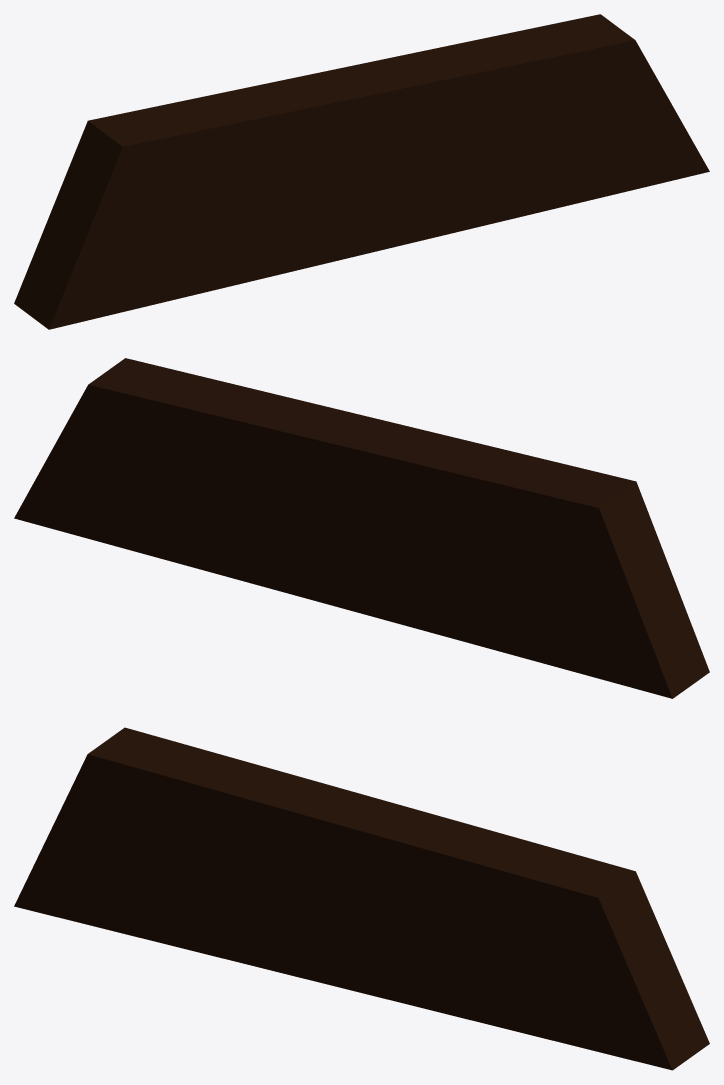
3 renders of one model, top to bottom at view 1: azimuth 30°, elevation 25°; view 2: azimuth 150°, elevation 25°; view 3: azimuth 330°, elevation 25°, orthographic. The views are drawn at different scales.
Parts seen in each view (by area): view 1: Object_1; view 2: Object_1; view 3: Object_1.
Part boxes in pixels (x1,y1,x2,y2): Object_1: (14, 14, 709, 329); Object_1: (14, 358, 709, 698); Object_1: (14, 727, 709, 1070).
Size of the model in its own units: 3.7 by 0.4631 by 0.9036.
